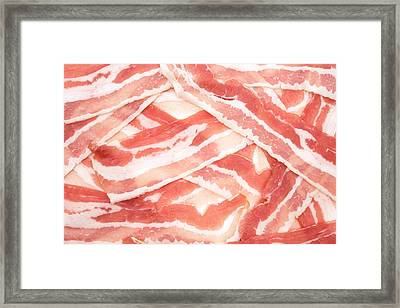bacon: (63, 65, 331, 240)
